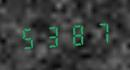eight: (64, 20, 86, 48)
five: (18, 23, 40, 51)
seven: (87, 18, 109, 46)
three: (41, 21, 63, 50)
